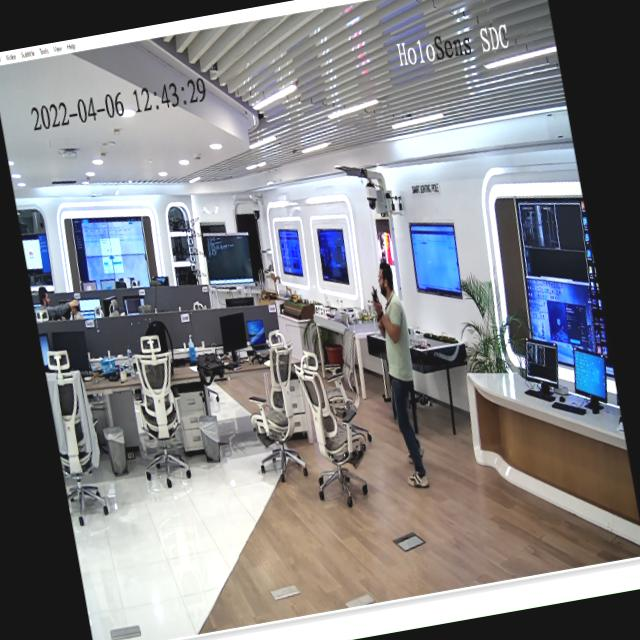long weapon: (363, 278, 395, 340)
